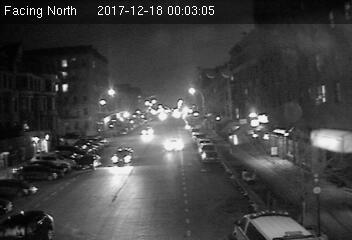car: (111, 146, 136, 167), (76, 154, 102, 169), (165, 137, 185, 154), (197, 149, 220, 162), (138, 125, 155, 137)
police: (229, 209, 319, 240)
